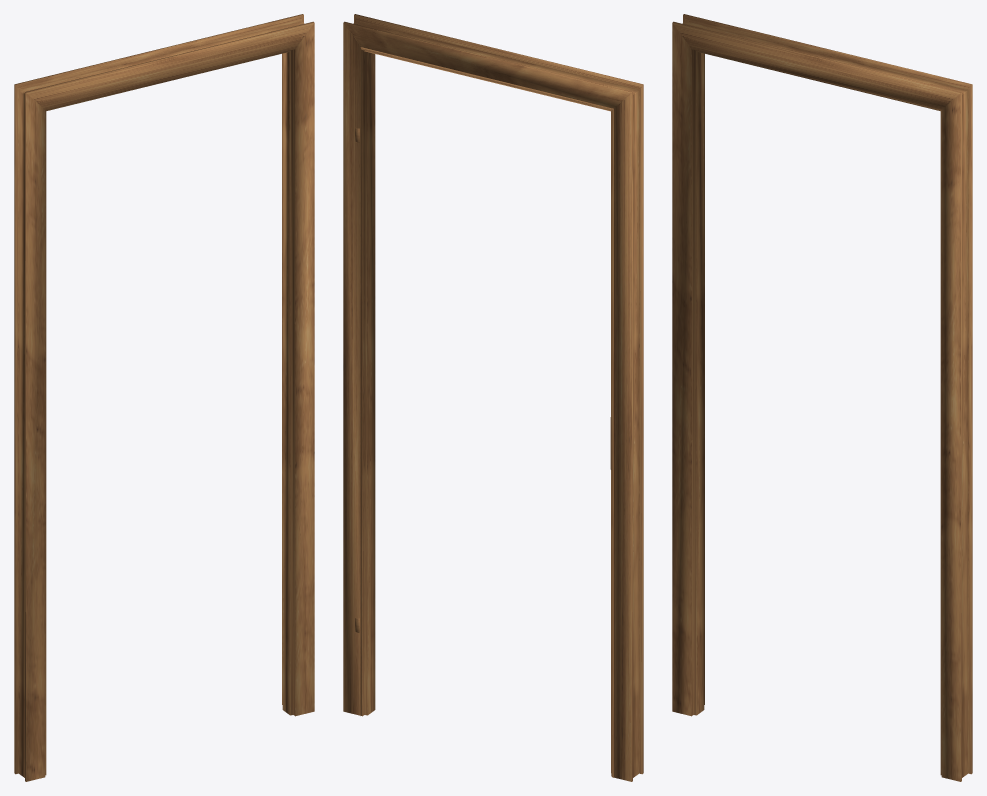
Rendered from open_door.glb.
3 views of the same model, side by side, from view 1: azimuth 30°, elevation 25°; view 2: azimuth 150°, elevation 25°; view 3: azimuth 330°, elevation 25° (orthographic).
Visible parts, largest first — view 1: Mesh_0.013; view 2: Mesh_0.013; view 3: Mesh_0.013.
Part boxes in pixels (x1,y1,x2,y2): Mesh_0.013: (14,14,314,781); Mesh_0.013: (343,14,643,781); Mesh_0.013: (672,14,972,781).
Bounding box in the file's own units: 97.1 × 222 × 7.62.
Materials: 1 (1 with a texture image).
